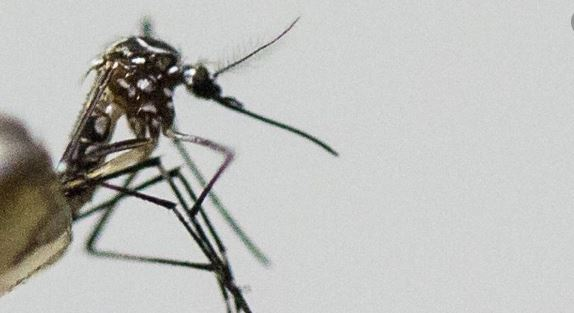dengue_mosquito: (1, 14, 338, 312)
